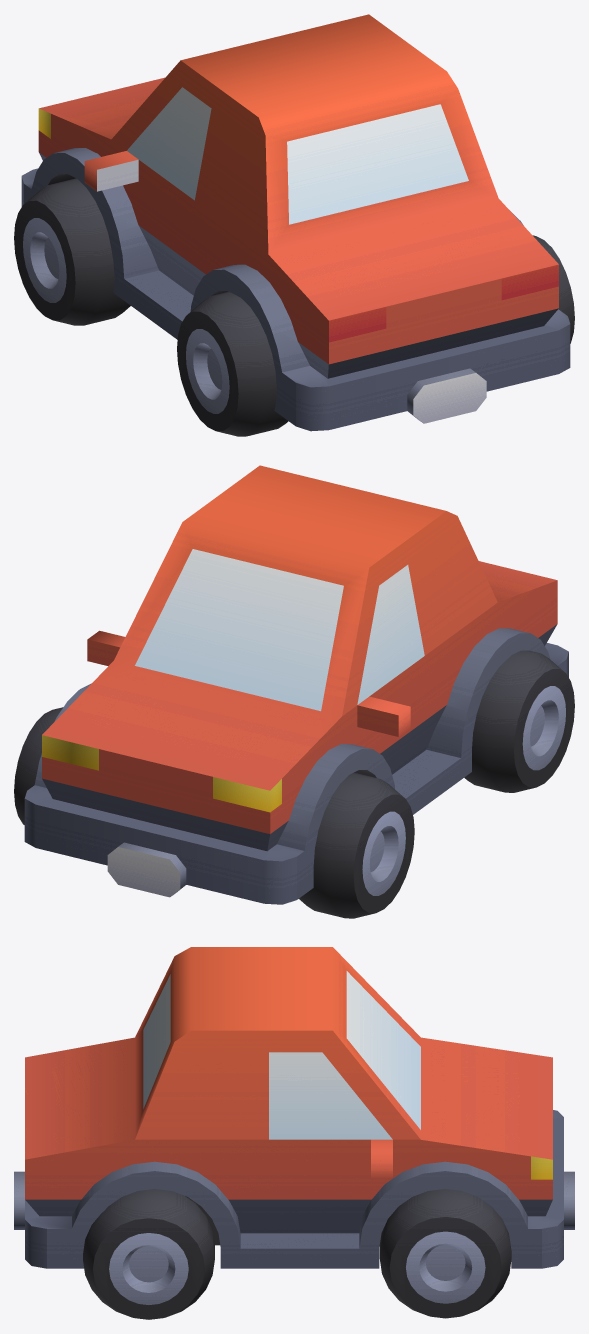
The model's file is car.glb.
3 views of the same model, one above another, from view 1: azimuth 30°, elevation 25°; view 2: azimuth 150°, elevation 25°; view 3: azimuth 270°, elevation 25° (orthographic). The views are drawn at different scales.
Parts seen in each view (by area): view 1: body.021, body.022, wheel-front-left.021, wheel-back-left.020, wheel-back-left.022, wheel-front-left.022, wheel-back-right.021; view 2: body.021, body.022, wheel-front-left.021, wheel-back-left.020, wheel-back-left.022, wheel-front-left.022, wheel-front-right.021; view 3: body.021, body.022, wheel-front-right.021, wheel-back-right.021, wheel-back-right.022, wheel-front-right.022.
Part boxes in pixels (left/top/right/bottom): body.021: left=21, top=14, right=570, bottom=431; body.022: left=21, top=14, right=568, bottom=430; wheel-front-left.021: left=14, top=179, right=130, bottom=325; wheel-back-left.020: left=177, top=291, right=288, bottom=436; wheel-back-left.022: left=186, top=300, right=275, bottom=430; wheel-front-left.022: left=28, top=178, right=78, bottom=319; wheel-back-right.021: left=533, top=235, right=573, bottom=343; body.021: left=24, top=465, right=568, bottom=904; body.022: left=24, top=465, right=567, bottom=895; wheel-front-left.021: left=299, top=773, right=414, bottom=918; wheel-back-left.020: left=464, top=650, right=574, bottom=792; wheel-back-left.022: left=470, top=651, right=574, bottom=792; wheel-front-left.022: left=307, top=772, right=408, bottom=918; wheel-front-right.021: left=14, top=707, right=63, bottom=824; body.021: left=14, top=947, right=574, bottom=1268; body.022: left=14, top=947, right=574, bottom=1268; wheel-front-right.021: left=379, top=1189, right=511, bottom=1318; wheel-back-right.021: left=83, top=1189, right=214, bottom=1319; wheel-back-right.022: left=86, top=1189, right=214, bottom=1317; wheel-front-right.022: left=385, top=1194, right=511, bottom=1314.
Size of the model in its own units: 0.2136 by 0.1746 by 0.3343.
Materials: 8 (8 with a texture image).
